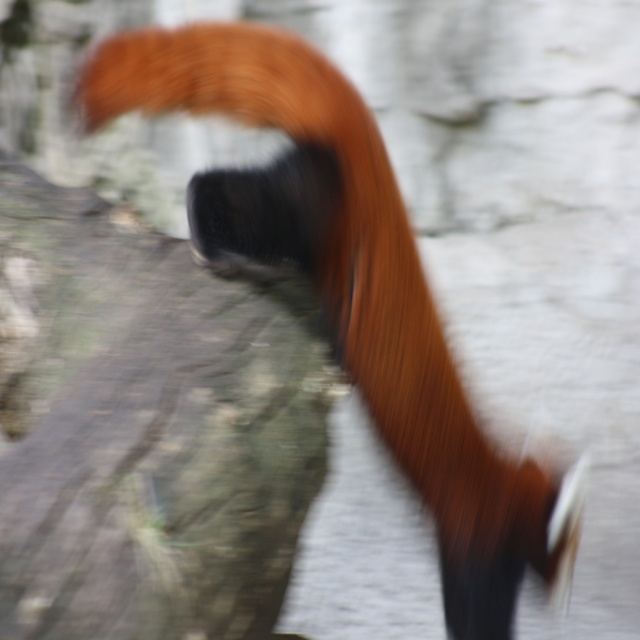Red panda: (67, 25, 591, 639)
